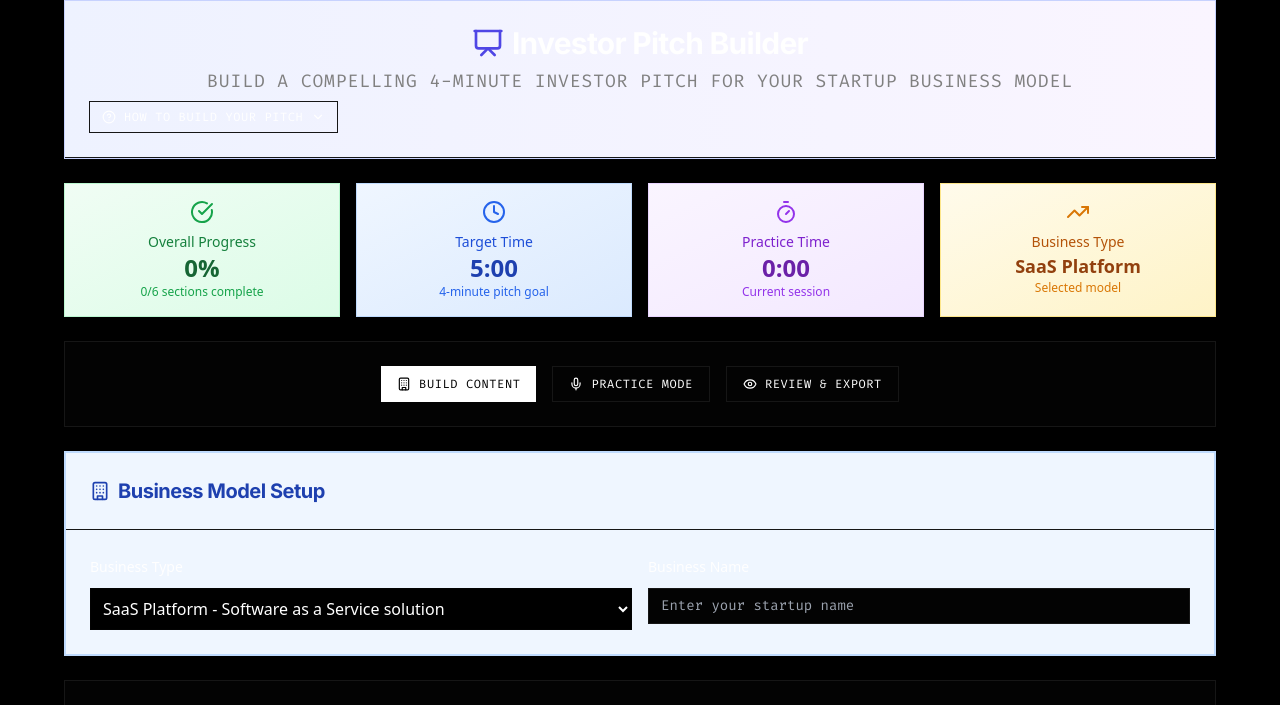
Test: PitchPresentationBuilder › shows section completeness in review mode
Switch to review mode
Click the button "Review & Export" at (812, 384), box [726,366,899,402]
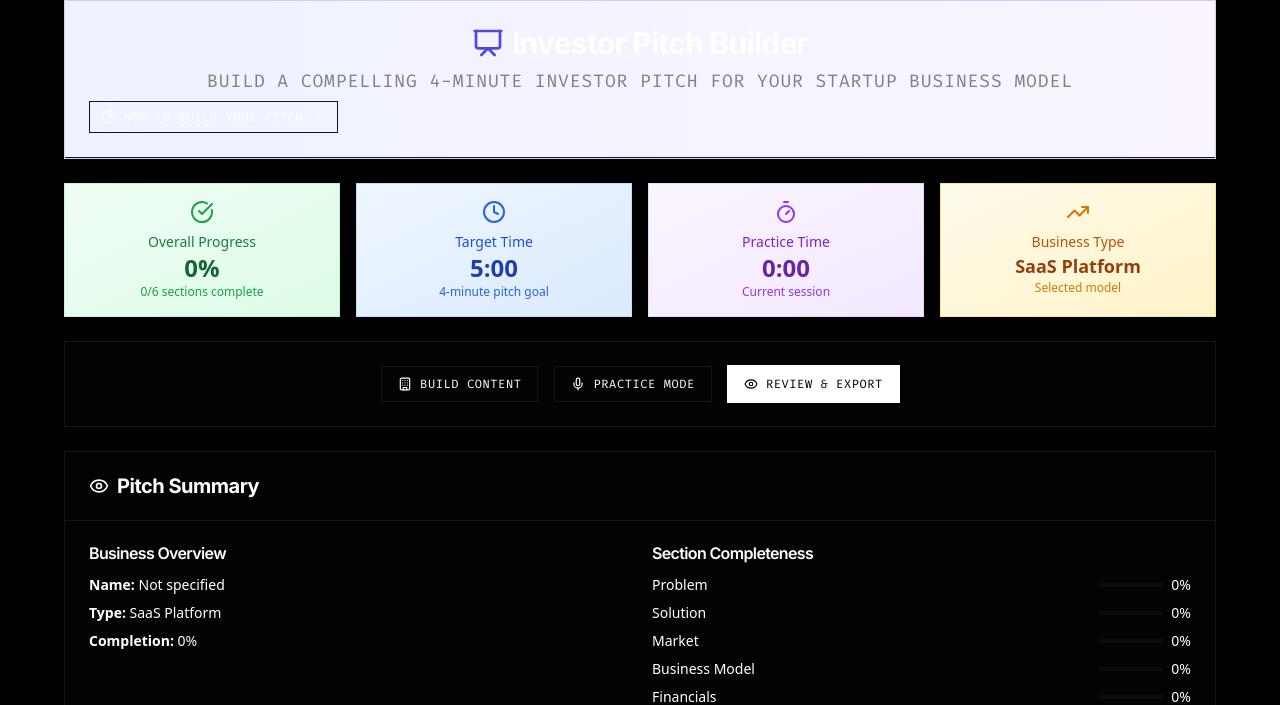
Expected: the text "Problem" is shown, [652,575,708,595]
Expected: the heading "Business Overview" is shown, [89,543,226,563]
